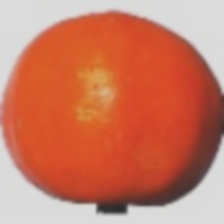tangerine: (52, 52, 195, 191)
